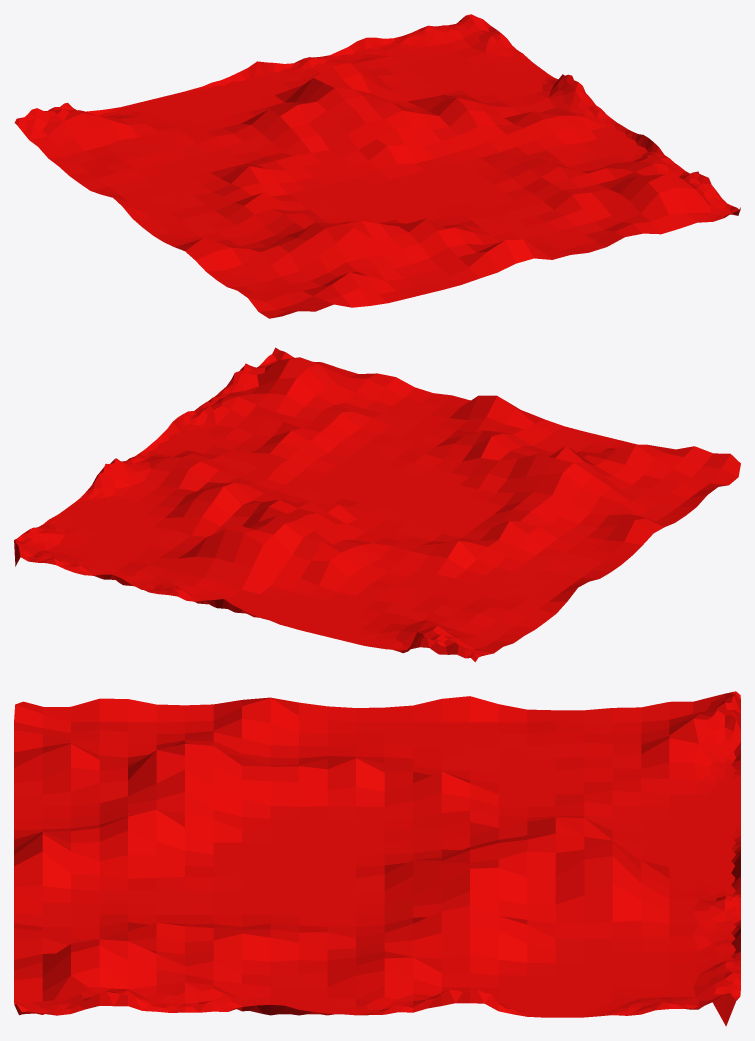
The model's file is landscape_smaller.glb.
The picture shows the model from 3 angles, top to bottom: view 1: azimuth 30°, elevation 25°; view 2: azimuth 150°, elevation 25°; view 3: azimuth 270°, elevation 25°; orthographic projection. The views are drawn at different scales.
Visible parts, largest first — view 1: Plane.003; view 2: Plane.003; view 3: Plane.003.
Boxes of the visible parts, bbox=[...] form: Plane.003: bbox=[14, 14, 740, 318]; Plane.003: bbox=[14, 347, 740, 662]; Plane.003: bbox=[14, 691, 740, 1026].
Bounding box in the file's own units: 9.99 × 0.9673 × 9.99.
